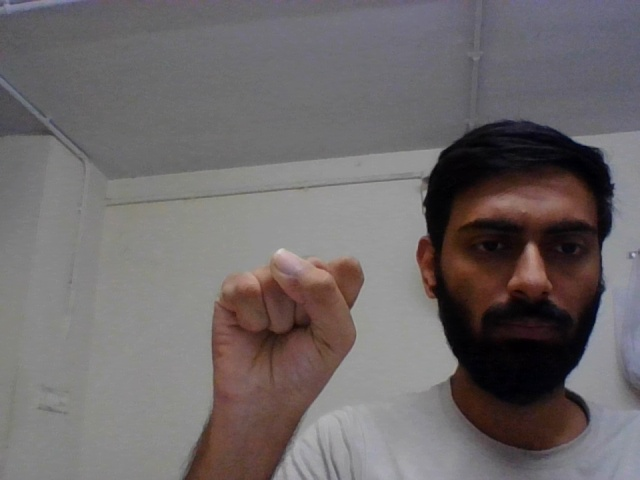S: (199, 240, 368, 419)
